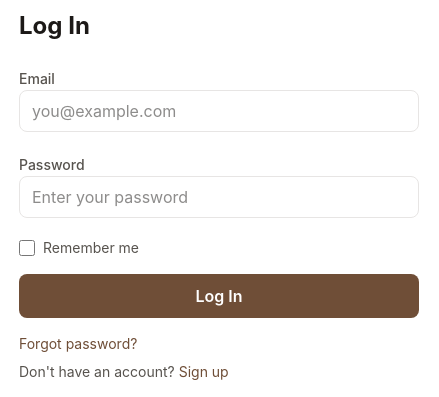
Scenario: LoginPage › should disable button and show loading text while logging in
Check: the button "Log In" is shown, box [19,274,419,318]
Step 1. Type "test@test.com" into the field labelled "Email" → (219, 111), box [19,90,419,132]
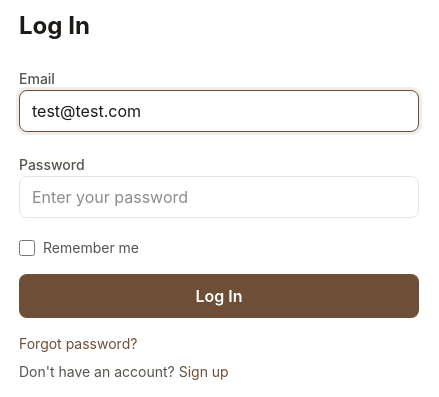
Step 2. Type "password123" into the password field labelled "Password" → (219, 197), box [19,176,419,218]
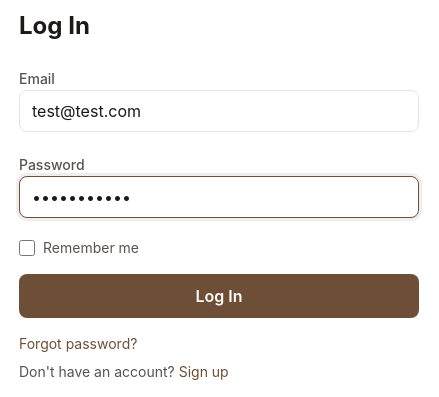
Step 3. Click the button "Log In" → (219, 296), box [19,274,419,318]
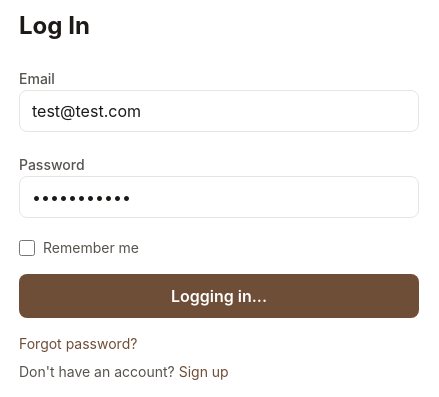
Check: the button "Logging in..." is disabled, box [19,274,419,318]
